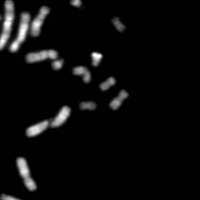chromosome: (26, 106, 71, 137), (10, 12, 30, 52), (15, 157, 36, 191), (0, 0, 13, 50), (30, 5, 49, 36), (25, 50, 58, 63), (110, 90, 127, 110), (73, 66, 91, 84), (112, 17, 126, 33), (100, 77, 115, 91), (0, 193, 26, 200), (91, 51, 102, 66), (80, 101, 96, 110), (51, 58, 64, 69), (70, 0, 83, 9), (0, 0, 1, 23)
